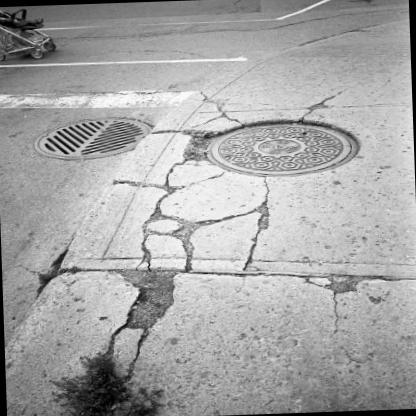manholes: (197, 110, 376, 193), (21, 106, 163, 168)
